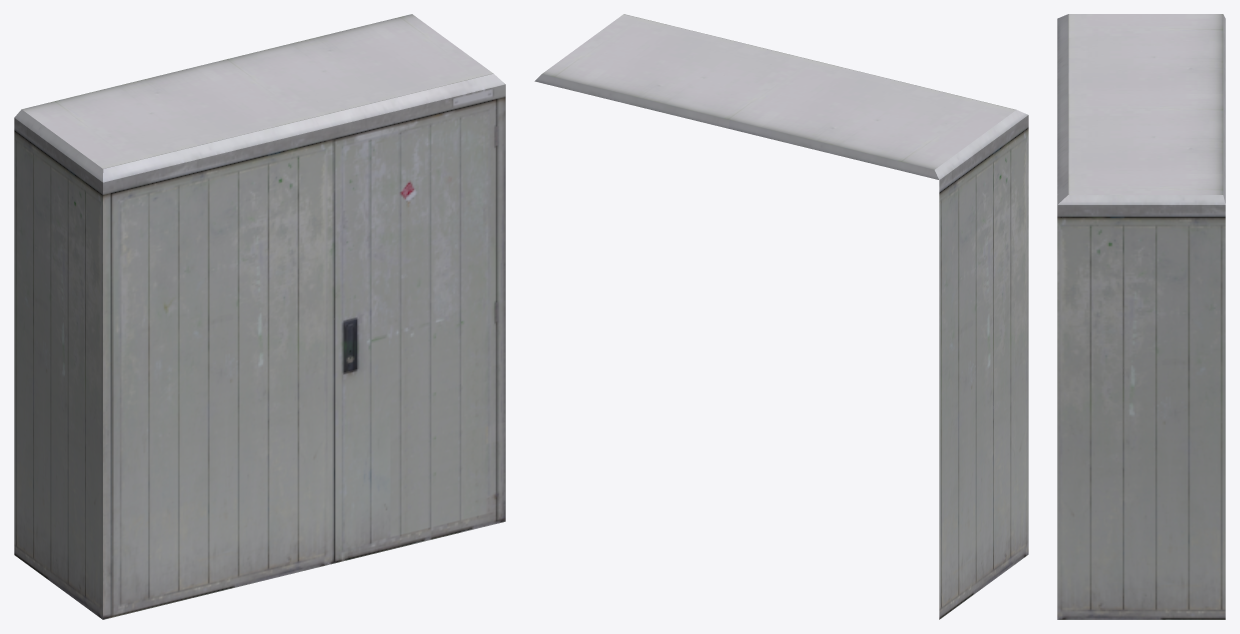
The model's file is Closet.gltf.
The picture shows the model from 3 angles, left to right: view 1: azimuth 30°, elevation 25°; view 2: azimuth 150°, elevation 25°; view 3: azimuth 270°, elevation 25°; orthographic projection. The views are drawn at different scales.
Parts seen in each view (by area): view 1: node1; view 2: node1; view 3: node1.
Part boxes in pixels (box(x1,y1,x2,y2)): node1: box(14, 14, 505, 619); node1: box(534, 14, 1028, 619); node1: box(1057, 14, 1225, 619).
Size of the model in its own units: 1.07 by 1.13 by 0.4088.
